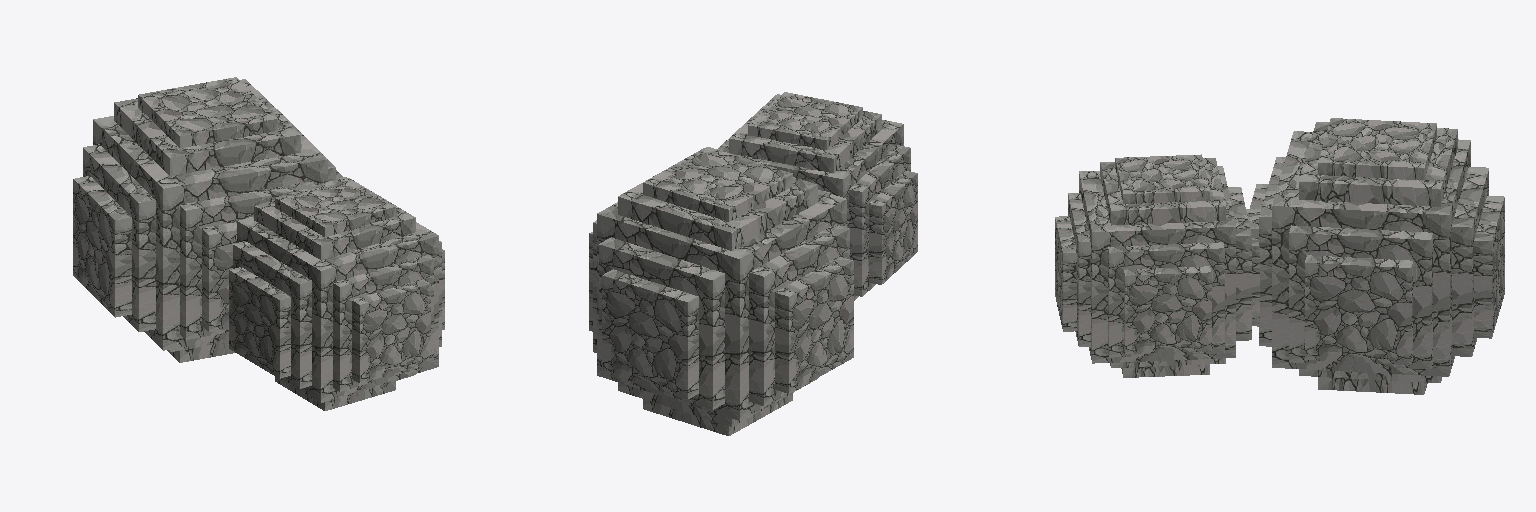
The picture shows the model from 3 angles: view 1: azimuth 30°, elevation 25°; view 2: azimuth 150°, elevation 25°; view 3: azimuth 270°, elevation 25°; orthographic projection.
Parts seen in each view (by area): view 1: Parte2; view 2: Parte2; view 3: Parte2.
Part boxes in pixels (x1,y1,x2,y2): Parte2: (73, 77, 444, 410); Parte2: (589, 92, 917, 435); Parte2: (1055, 118, 1504, 394).
Size of the model in its own units: 5.76 by 5.51 by 9.91.
1 materials, 1 textured.